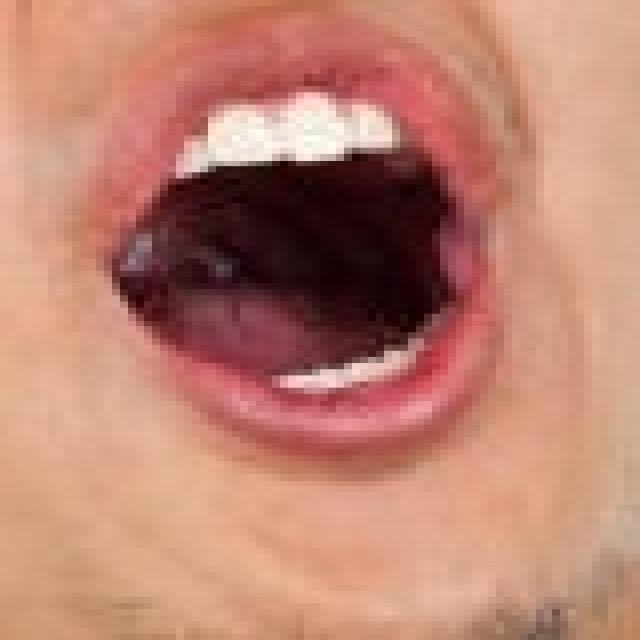open-mouth: (96, 7, 520, 456)
